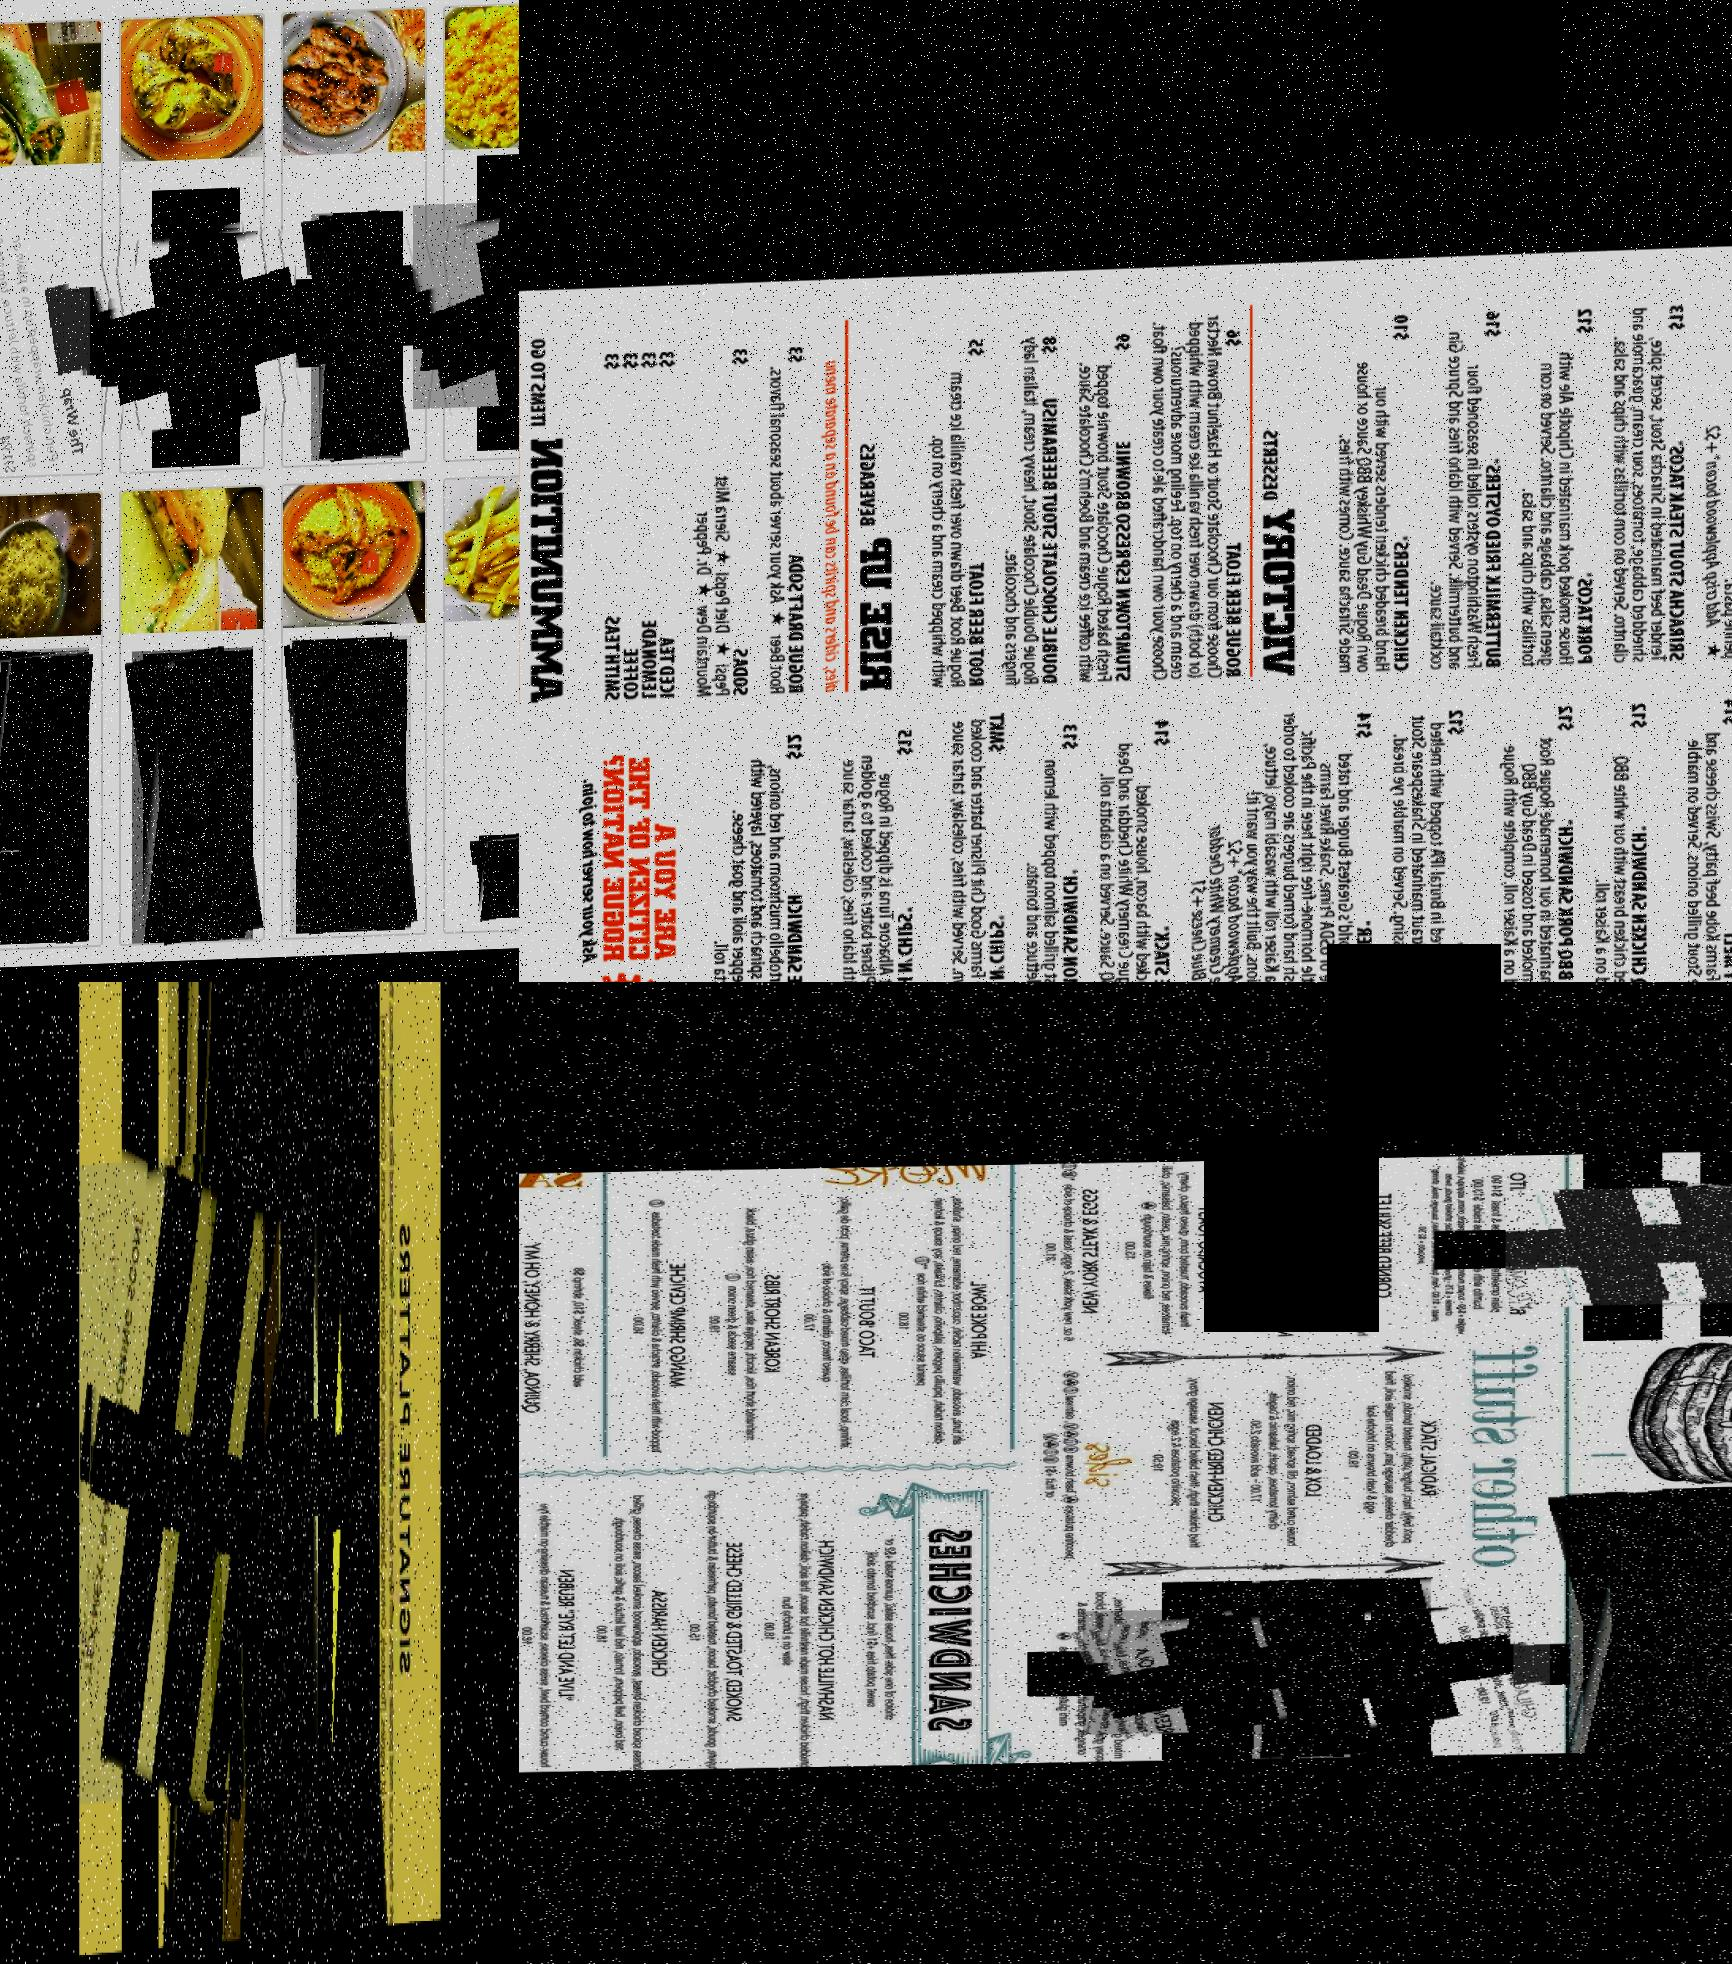Menu-Items: (79, 1153, 261, 1807), (299, 983, 378, 1941), (211, 983, 274, 1947), (164, 983, 221, 1951), (261, 983, 316, 1942), (1185, 714, 1379, 983), (95, 227, 294, 435), (1142, 319, 1249, 697), (289, 637, 410, 936), (130, 650, 251, 946), (1324, 313, 1416, 695), (1603, 303, 1694, 685), (1423, 309, 1508, 694), (1513, 313, 1598, 685), (1082, 1610, 1329, 1737), (1565, 1496, 1680, 1758), (1267, 1610, 1511, 1733), (891, 1192, 996, 1461), (813, 722, 921, 983), (699, 734, 811, 983), (1505, 1192, 1732, 1310), (1480, 715, 1578, 983), (0, 649, 87, 946), (0, 196, 89, 478), (921, 338, 990, 700), (1072, 319, 1137, 700), (588, 1486, 674, 1772), (1383, 719, 1475, 983), (754, 1484, 839, 1768), (998, 333, 1063, 697), (306, 216, 401, 465), (794, 1192, 881, 1461), (926, 724, 1016, 983), (1409, 1160, 1535, 1344), (1092, 725, 1180, 983), (411, 201, 518, 413), (1429, 1576, 1548, 1760), (706, 1197, 786, 1463), (1037, 1586, 1155, 1765), (617, 1195, 695, 1464), (1662, 695, 1732, 983), (679, 1483, 749, 1770), (1657, 1493, 1732, 1757), (1115, 1163, 1222, 1349), (1341, 1369, 1443, 1556), (1249, 1581, 1354, 1762), (1235, 1367, 1329, 1559), (518, 1489, 582, 1772), (1588, 710, 1653, 983), (1021, 720, 1083, 983), (1311, 1162, 1396, 1346), (1149, 1372, 1230, 1559), (1025, 1165, 1103, 1354), (1613, 1187, 1732, 1310), (1234, 1162, 1302, 1347), (1700, 303, 1732, 679), (520, 1200, 550, 1459), (471, 836, 518, 924)
